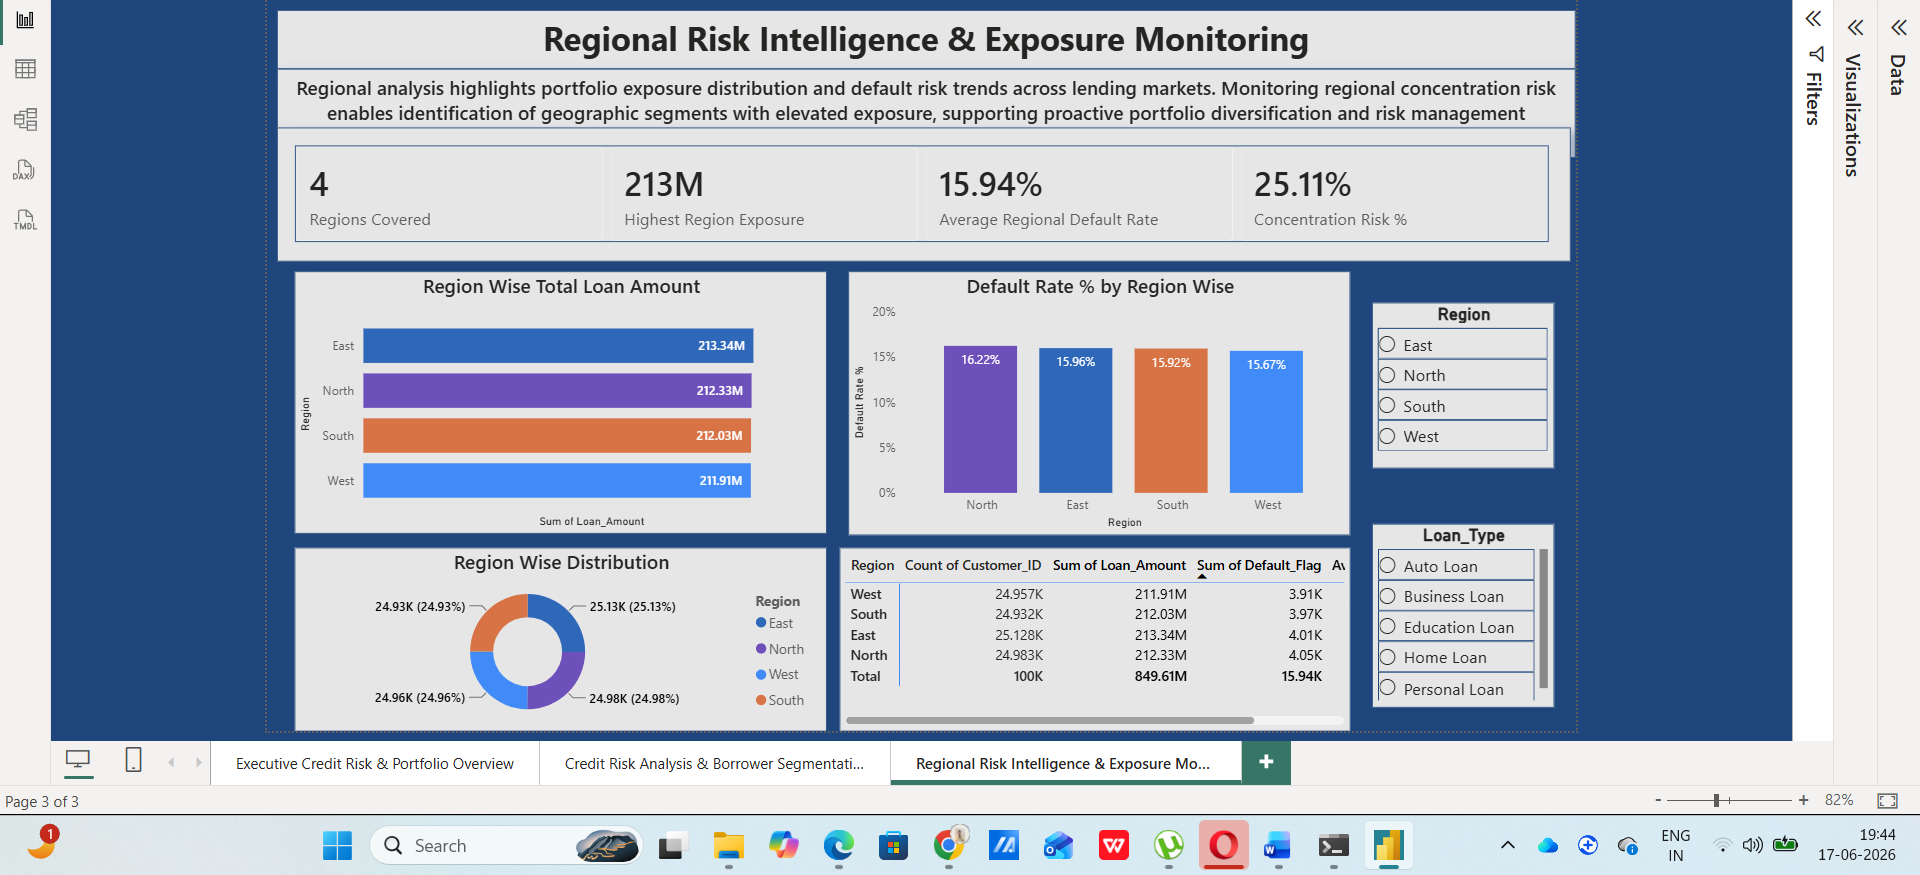

What the dashboard file says about the page in this screenshot:
{"tool":"powerbi","page":{"name":"Regional Risk Intelligence & Exposure Monitoring","canvas":[1280,720],"ordinal":2},"visuals":[{"type":"textbox","box":[9.8,14.7,1270.5,57.5],"z":0},{"type":"textbox","box":[9.8,72.1,1270.5,86.8],"z":1},{"type":"cardVisual","fields":{"Data":["enterprise_credit_risk_dataset.Regions Covered","enterprise_credit_risk_dataset.Highest Region Exposure","enterprise_credit_risk_dataset.Average Regional Default Rate","enterprise_credit_risk_dataset.Concentration Risk %"]},"box":[9.8,129.6,1265.6,130.8],"z":2},{"type":"clusteredBarChart","title":"Region Wise Total Loan Amount","fields":{"Category":["enterprise_credit_risk_dataset.Region"],"Y":["Sum(enterprise_credit_risk_dataset.Loan_Amount)"]},"box":[26.9,270.2,520.9,256.8],"z":3},{"type":"clusteredColumnChart","title":"Default Rate % by Region Wise","fields":{"Category":["enterprise_credit_risk_dataset.Region"],"Y":["enterprise_credit_risk_dataset.Default Rate %"]},"box":[568.6,270.2,491.6,258],"z":4},{"type":"donutChart","title":"Region Wise Distribution","fields":{"Category":["enterprise_credit_risk_dataset.Region"],"Y":["CountNonNull(enterprise_credit_risk_dataset.Customer_ID)"]},"box":[26.9,540.5,520.9,179.8],"z":5},{"type":"pivotTable","fields":{"Rows":["enterprise_credit_risk_dataset.Region"],"Values":["CountNonNull(enterprise_credit_risk_dataset.Customer_ID)","Sum(enterprise_credit_risk_dataset.Loan_Amount)","Sum(enterprise_credit_risk_dataset.Default_Flag)","enterprise_credit_risk_dataset.Avg Credit Score"]},"box":[560.1,540.5,500.1,179.8],"z":6},{"type":"listSlicer","fields":{"Values":["enterprise_credit_risk_dataset.Region"]},"box":[1081,300.8,178.5,162.6],"z":7},{"type":"listSlicer","fields":{"Values":["enterprise_credit_risk_dataset.Loan_Type"]},"box":[1081,517.3,178.5,179.8],"z":8}]}

Visuals, with their boxes on the page's 1280x720 design canvas (x1, y1, x2, y2). These are canvas units, not pixel positions in the 1920x875 screenshot, which may show the page scaled, cropped or inside an application window:
textbox: (10, 15, 1280, 72)
textbox: (10, 72, 1280, 159)
cardVisual - enterprise_credit_risk_dataset.Regions Covered x enterprise_credit_risk_dataset.Highest Region Exposure: (10, 130, 1275, 260)
"Region Wise Total Loan Amount" clusteredBarChart: (27, 270, 548, 527)
"Default Rate % by Region Wise" clusteredColumnChart: (569, 270, 1060, 528)
"Region Wise Distribution" donutChart: (27, 540, 548, 720)
pivotTable - enterprise_credit_risk_dataset.Region x CountNonNull(enterprise_credit_risk_dataset.Customer_ID): (560, 540, 1060, 720)
listSlicer - enterprise_credit_risk_dataset.Region: (1081, 301, 1260, 463)
listSlicer - enterprise_credit_risk_dataset.Loan_Type: (1081, 517, 1260, 697)
